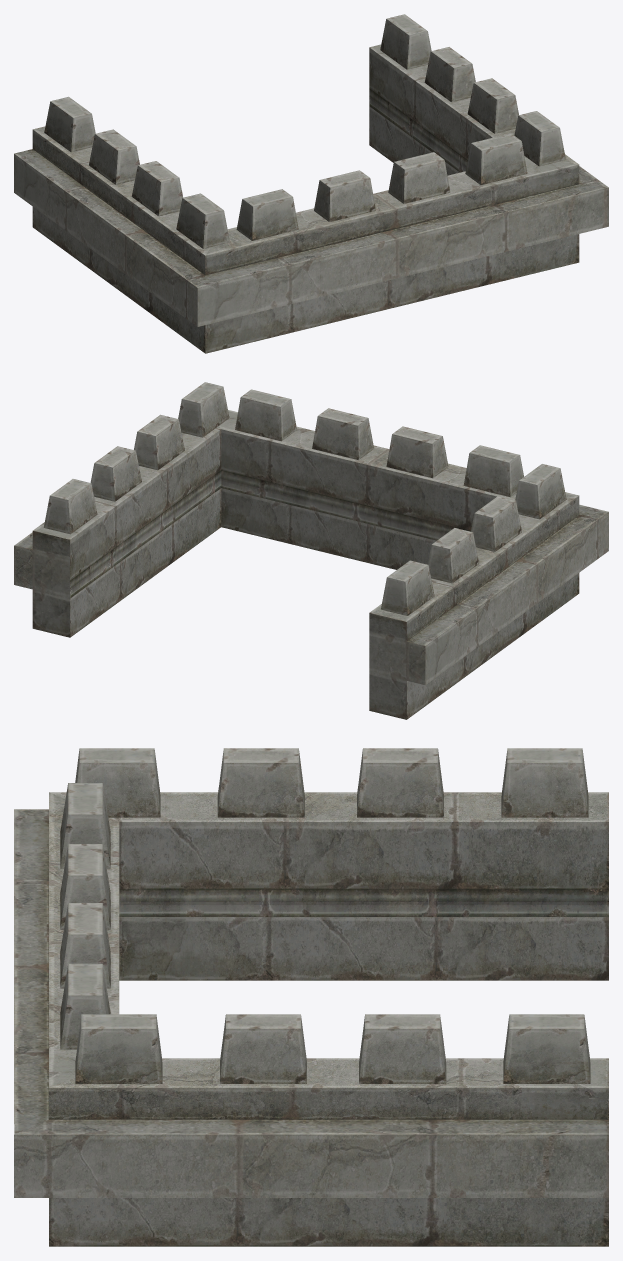
The model's file is bg_lut_lucastle_floorfence03a_sm_lkj.FBX.
3 renders of one model, top to bottom at view 1: azimuth 30°, elevation 25°; view 2: azimuth 150°, elevation 25°; view 3: azimuth 270°, elevation 25°, orthographic. The views are drawn at different scales.
Parts seen in each view (by area): view 1: bg_lut_lucastle_floorfence03a_sm_lkj; view 2: bg_lut_lucastle_floorfence03a_sm_lkj; view 3: bg_lut_lucastle_floorfence03a_sm_lkj.
Part boxes in pixels (left/top/right/bottom): bg_lut_lucastle_floorfence03a_sm_lkj: left=14, top=14, right=608, bottom=353; bg_lut_lucastle_floorfence03a_sm_lkj: left=14, top=382, right=608, bottom=719; bg_lut_lucastle_floorfence03a_sm_lkj: left=14, top=748, right=608, bottom=1246.
Size of the model in its own units: 352 by 106 by 272.
